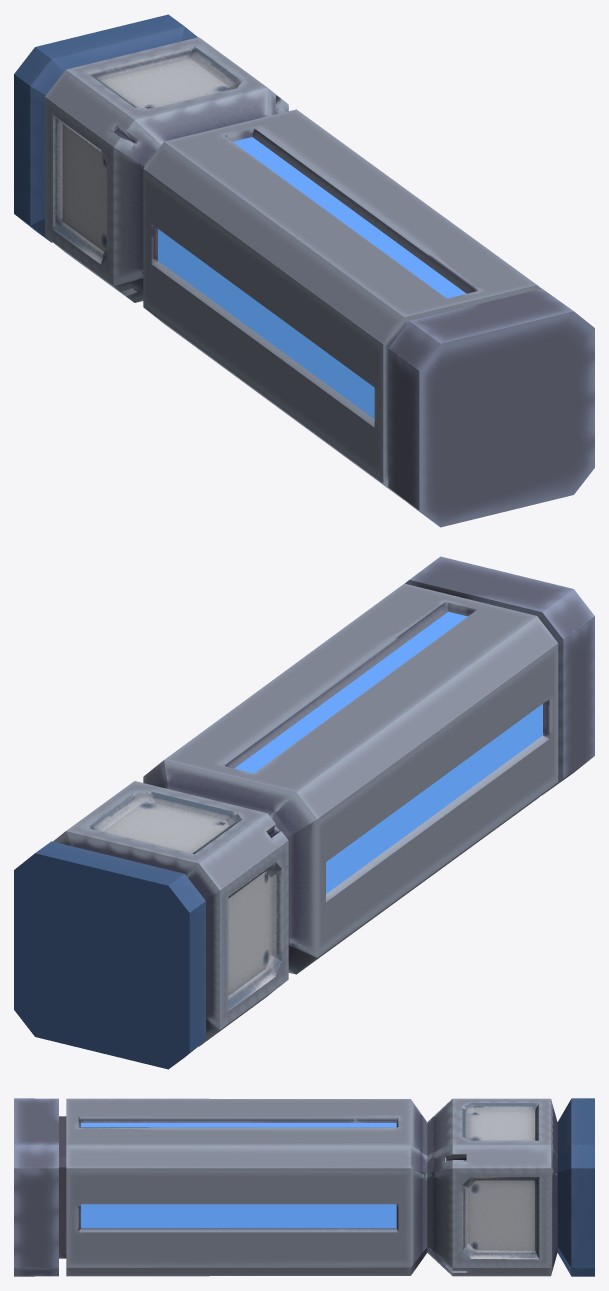
The model's file is pillar_low.fbx.
3 views of the same model, one above another, from view 1: azimuth 30°, elevation 25°; view 2: azimuth 150°, elevation 25°; view 3: azimuth 270°, elevation 25° (orthographic). The views are drawn at different scales.
Visible parts, largest first — view 1: pillar_low; view 2: pillar_low; view 3: pillar_low.
Part boxes in pixels (x1,y1,x2,y2): pillar_low: (14,14,594,527); pillar_low: (14,556,594,1069); pillar_low: (14,1098,594,1276).
Bounding box in the file's own units: 100 × 100 × 400.
